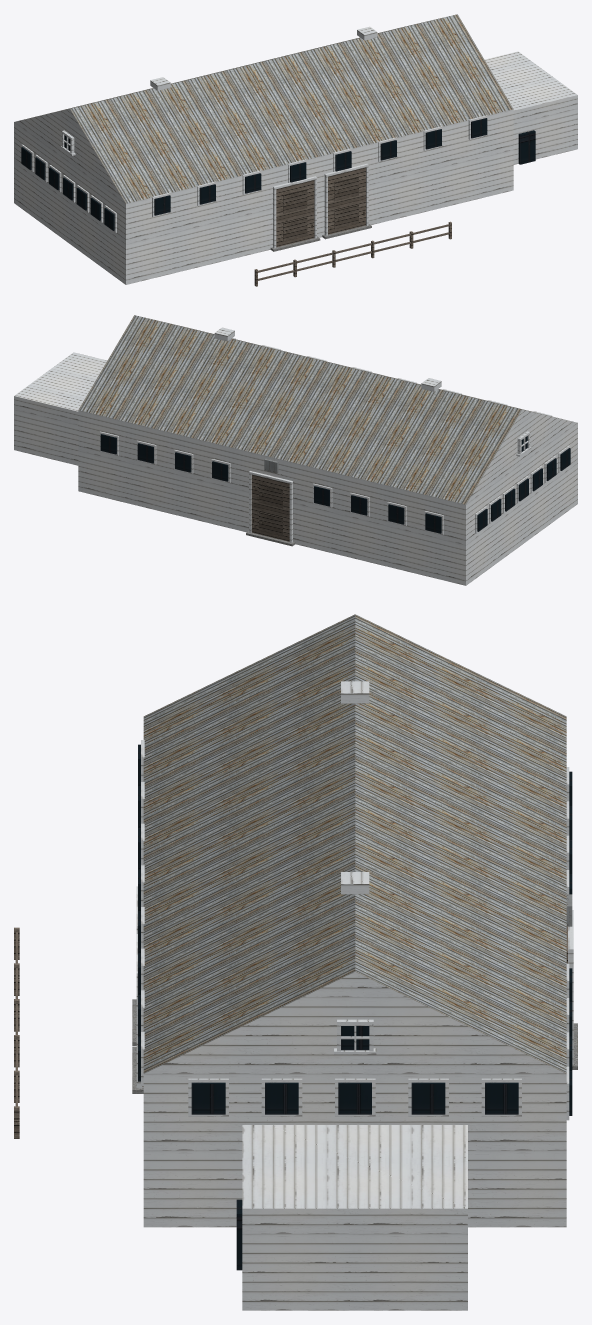
The model's file is dairy-barn_lod0.gltf.
3 views of the same model, one above another, from view 1: azimuth 30°, elevation 25°; view 2: azimuth 150°, elevation 25°; view 3: azimuth 270°, elevation 25° (orthographic). The views are drawn at different scales.
Parts seen in each view (by area): view 1: dairy-barn_roof, dairy-barn_walls, dairy-barn__milk_house, dairy-barn_fen_07-glass-curtain-blue_5_t, dairy-barn_fen_20-white-clapboard_0, dairy-barn_gable_ends, dairy-barn_fen_18-timber-siding_1, dairy-barn_fen_18-timber-siding_2_t, dairy-barn__pen_fence, dairy-barn__milk_house_door, dairy-barn_fen_06-granite_4; view 2: dairy-barn_roof, dairy-barn_walls, dairy-barn__milk_house, dairy-barn_fen_07-glass-curtain-blue_5_t, dairy-barn_fen_20-white-clapboard_0, dairy-barn_gable_ends, dairy-barn_fen_18-timber-siding_1, dairy-barn_fen_18-timber-siding_2_t; view 3: dairy-barn_roof, dairy-barn__milk_house, dairy-barn_walls, dairy-barn_gable_ends, dairy-barn_fen_07-glass-curtain-blue_5_t, dairy-barn_fen_20-white-clapboard_0, dairy-barn__pen_fence.
Boxes of the visible parts, box(x1,y1,x2,y2) form: dairy-barn_roof: box(24, 14, 513, 203); dairy-barn_walls: box(14, 109, 513, 284); dairy-barn__milk_house: box(485, 51, 577, 164); dairy-barn_fen_07-glass-curtain-blue_5_t: box(21, 118, 487, 230); dairy-barn_fen_20-white-clapboard_0: box(21, 115, 487, 248); dairy-barn_gable_ends: box(14, 109, 125, 203); dairy-barn_fen_18-timber-siding_1: box(276, 167, 365, 247); dairy-barn_fen_18-timber-siding_2_t: box(283, 177, 358, 241); dairy-barn__pen_fence: box(254, 221, 451, 286); dairy-barn__milk_house_door: box(518, 130, 535, 164); dairy-barn_fen_06-granite_4: box(270, 224, 371, 251); dairy-barn_roof: box(78, 315, 562, 504); dairy-barn_walls: box(78, 410, 577, 585); dairy-barn__milk_house: box(14, 352, 107, 465); dairy-barn_fen_07-glass-curtain-blue_5_t: box(100, 434, 570, 533); dairy-barn_fen_20-white-clapboard_0: box(100, 337, 570, 542); dairy-barn_gable_ends: box(466, 409, 577, 504); dairy-barn_fen_18-timber-siding_1: box(251, 474, 289, 541); dairy-barn_fen_18-timber-siding_2_t: box(259, 484, 282, 536); dairy-barn_roof: box(143, 614, 566, 1073); dairy-barn__milk_house: box(242, 1125, 467, 1310); dairy-barn_walls: box(143, 1074, 566, 1227); dairy-barn_gable_ends: box(144, 972, 565, 1073); dairy-barn_fen_07-glass-curtain-blue_5_t: box(138, 744, 572, 1115); dairy-barn_fen_20-white-clapboard_0: box(136, 740, 573, 1120); dairy-barn__pen_fence: box(14, 927, 19, 1138).
Bounding box in the file's own units: 37.27 × 10.42 × 20.
